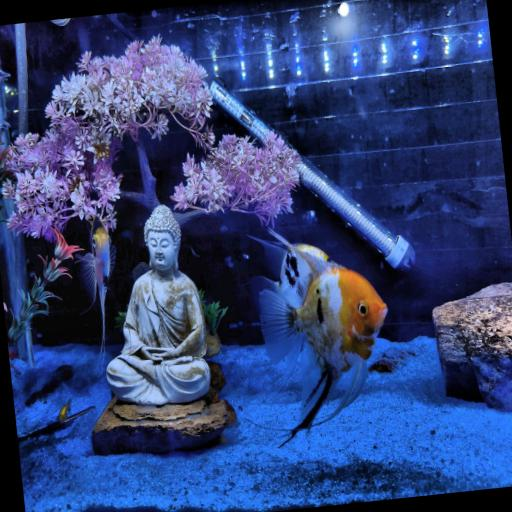Fish: (258, 233, 386, 440), (252, 237, 329, 303), (77, 217, 114, 351), (58, 400, 69, 423), (0, 71, 8, 81)
